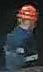helmet: (15, 4, 38, 25)
vest: (3, 28, 42, 68)
